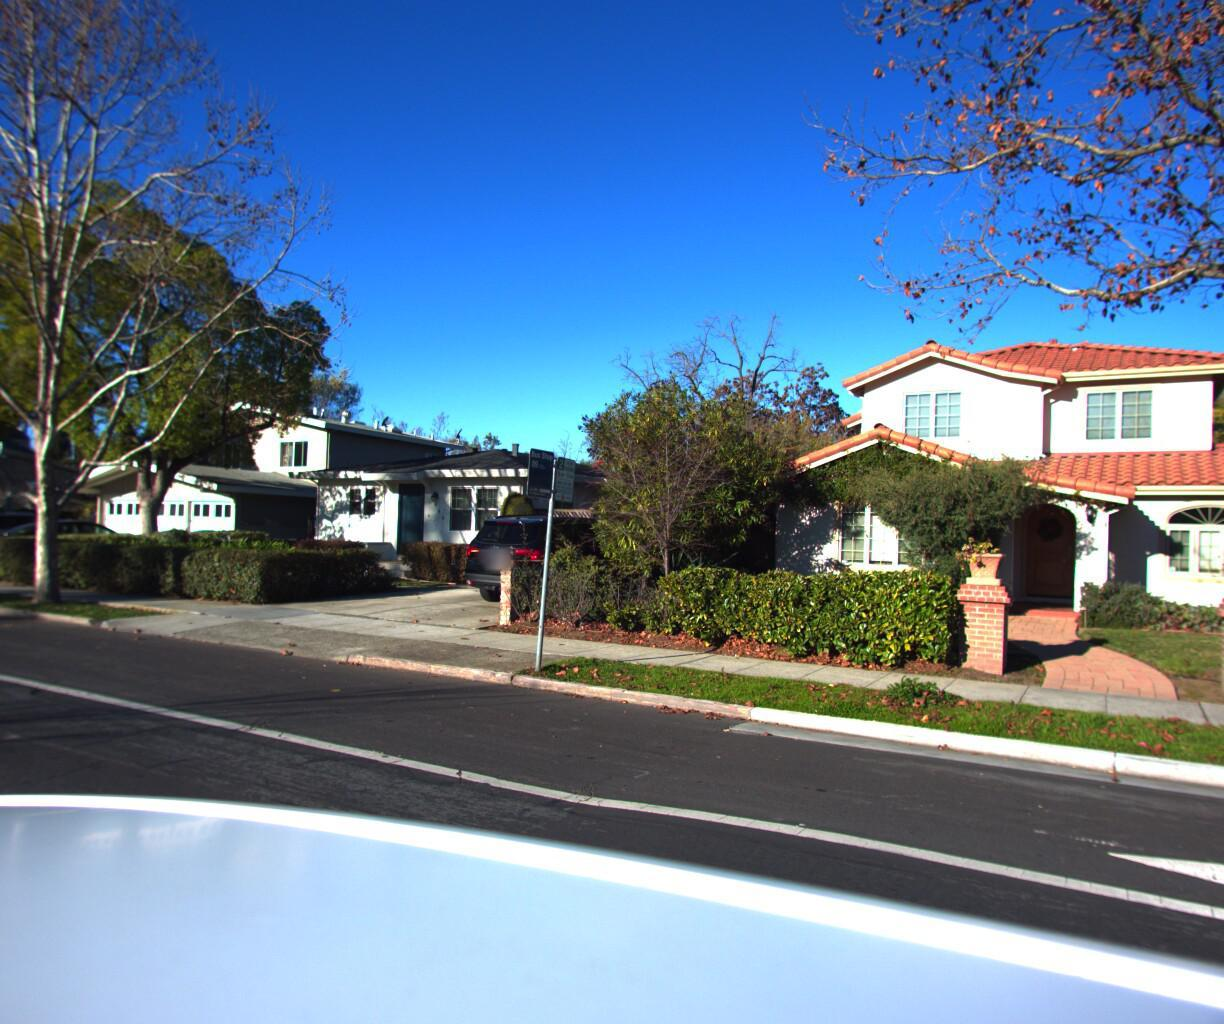car: (450, 513, 648, 618), (0, 522, 155, 580), (0, 514, 110, 575)
